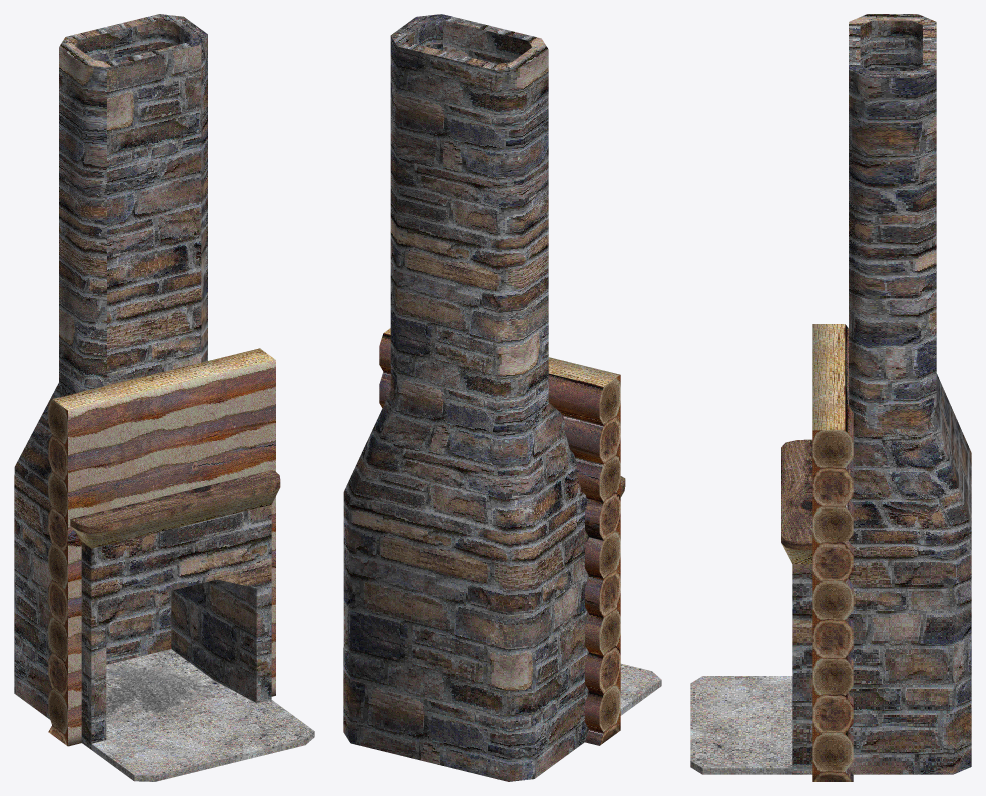
Rendered from wall-B-fireplace.glb.
3 views of the same model, side by side, from view 1: azimuth 30°, elevation 25°; view 2: azimuth 150°, elevation 25°; view 3: azimuth 270°, elevation 25° (orthographic). The views are drawn at different scales.
Parts seen in each view (by area): view 1: wall-B-fireplace.001; view 2: wall-B-fireplace.001; view 3: wall-B-fireplace.001.
Boxes of the visible parts, x1=… form: wall-B-fireplace.001: x1=14, y1=14, x2=314, y2=781; wall-B-fireplace.001: x1=343, y1=14, x2=661, y2=781; wall-B-fireplace.001: x1=690, y1=14, x2=971, y2=781.
Bounding box in the file's own units: 2 × 6 × 2.24.
Materials: 6 (6 with a texture image).
